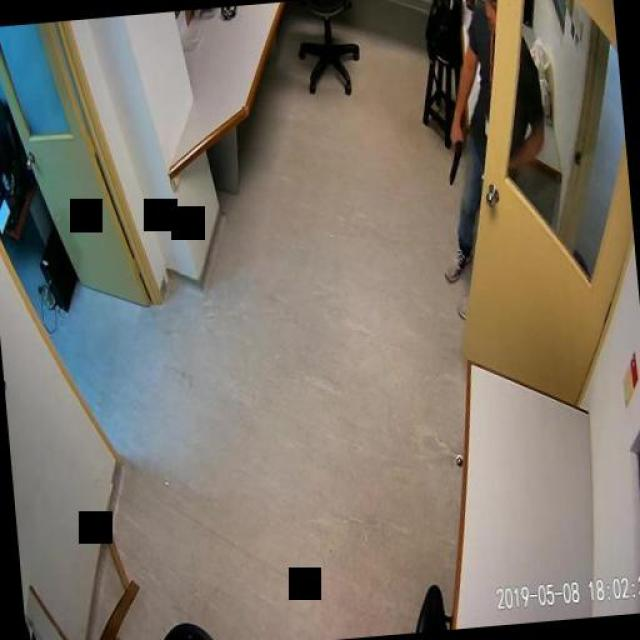gun: (444, 134, 465, 185)
